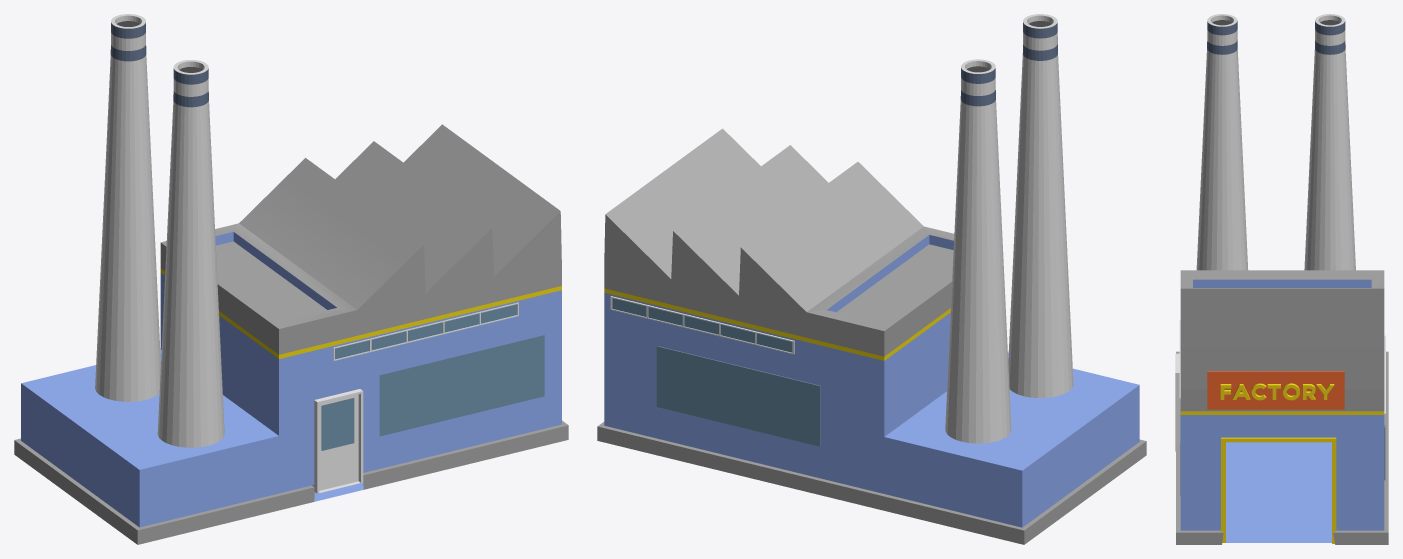
File: Factory_tran.glb
3 renders of one model, left to right at view 1: azimuth 30°, elevation 25°; view 2: azimuth 150°, elevation 25°; view 3: azimuth 270°, elevation 25°, orthographic. The views are drawn at different scales.
Parts seen in each view (by area): view 1: factory, Cylinder, Cylinder.001, window.001, Door_9, window; view 2: factory, Cylinder.001, Cylinder, widow, Cube_5_18.001; view 3: factory, Cylinder.001, Cylinder, Cube.15118, door, Factory_Text, Door_9.
Part boxes in pixels (bbox=[...]): factory: bbox=[14, 124, 568, 544]; Cylinder: bbox=[157, 60, 224, 447]; Cylinder.001: bbox=[95, 14, 160, 401]; window.001: bbox=[379, 335, 544, 436]; Door_9: bbox=[312, 389, 363, 493]; window: bbox=[333, 302, 518, 360]; factory: bbox=[597, 128, 1146, 544]; Cylinder.001: bbox=[945, 59, 1011, 443]; Cylinder: bbox=[1008, 14, 1073, 397]; widow: bbox=[656, 346, 820, 446]; Cube_5_18.001: bbox=[610, 296, 794, 354]; factory: bbox=[1176, 270, 1388, 544]; Cylinder.001: bbox=[1304, 14, 1355, 270]; Cylinder: bbox=[1196, 14, 1248, 270]; Cube.15118: bbox=[1207, 371, 1344, 409]; door: bbox=[1221, 437, 1336, 543]; Factory_Text: bbox=[1220, 383, 1334, 400]; Door_9: bbox=[1175, 353, 1180, 451].
Size of the model in its own units: 0.4835 by 0.4699 by 0.2409.
